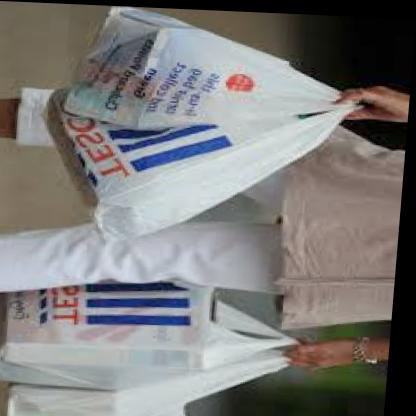Plastic: (13, 1, 380, 269), (0, 261, 322, 416)
